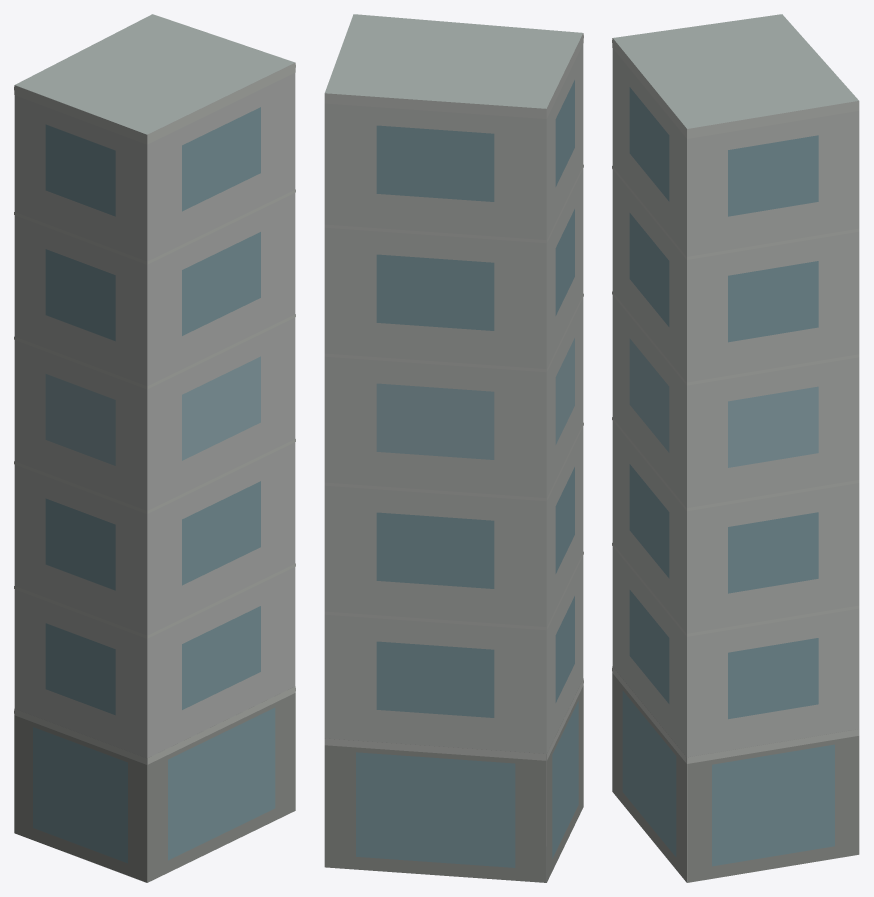
File: survey-upis-32768595.glb
3 renders of one model, left to right at view 1: azimuth 30°, elevation 25°; view 2: azimuth 150°, elevation 25°; view 3: azimuth 270°, elevation 25°, orthographic. The views are drawn at different scales.
Visible parts, largest first — view 1: survey-upis-32768595.tmp; view 2: survey-upis-32768595.tmp; view 3: survey-upis-32768595.tmp.
Boxes of the visible parts, x1,y1,x2,y2 form: survey-upis-32768595.tmp: [14, 14, 295, 882]; survey-upis-32768595.tmp: [324, 14, 583, 882]; survey-upis-32768595.tmp: [612, 14, 859, 882].
Bounding box in the file's own units: 6.01 × 18.3 × 5.45.
